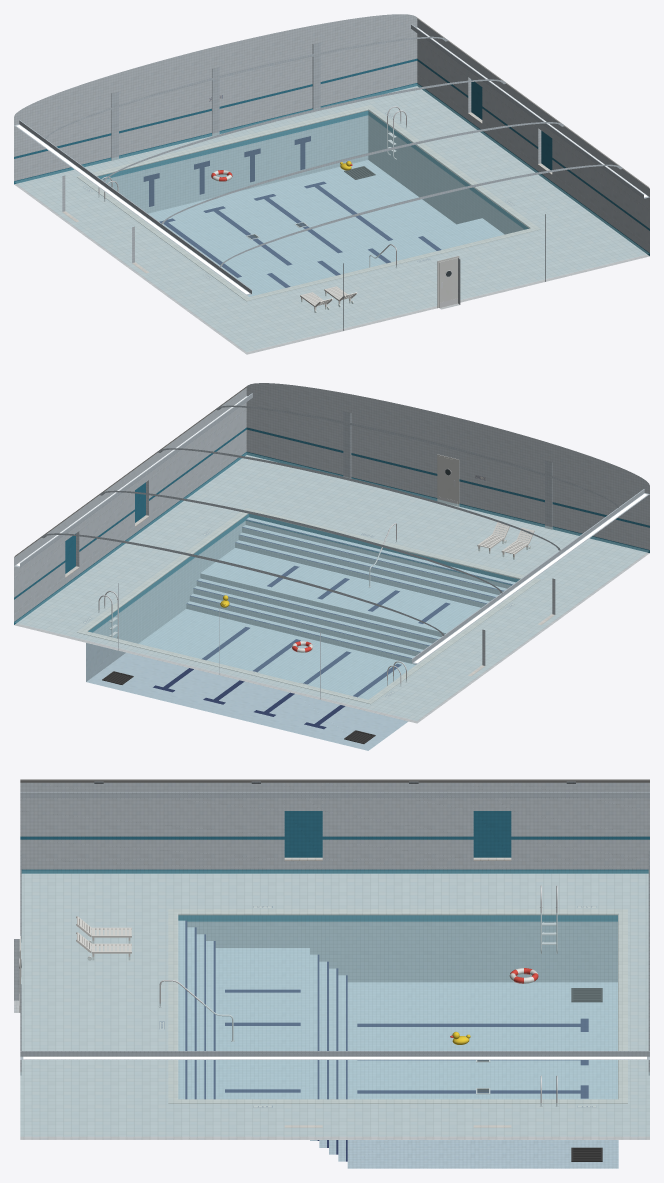
Rendered from sub_pool_11.glb.
The picture shows the model from 3 angles, top to bottom: view 1: azimuth 30°, elevation 25°; view 2: azimuth 150°, elevation 25°; view 3: azimuth 270°, elevation 25°; orthographic projection. The views are drawn at different scales.
Visible parts, largest first — view 1: Pool_Water, Tile_Wall, Tile_Deck, Tile_Pool, Tile_Trim, Tile_Accent, Tile_Lip, Tile_Lane, Lamp_Emit, DoorLeaf_atrium, Plastic_White, Chrome; view 2: Pool_Water, Tile_Pool, Tile_Wall, Tile_Deck, Tile_Trim, Tile_Accent, Tile_Lip, Tile_Lane, Lamp_Emit, DoorLeaf_atrium, Plastic_White, Chrome (+1 smaller); view 3: Pool_Water, Tile_Pool, Tile_Deck, Tile_Wall, Tile_Accent, Tile_Trim, Tile_Lip, Tile_Lane, Lamp_Emit, Ceiling_Paint, Plastic_White, Grate_Iron (+1 smaller).
Boxes of the visible parts, x1,y1,x2,y2 form: Pool_Water: (15, 84, 648, 351); Tile_Wall: (14, 14, 649, 304); Tile_Deck: (14, 86, 649, 354); Tile_Pool: (102, 115, 524, 296); Tile_Trim: (14, 24, 649, 330); Tile_Accent: (14, 58, 649, 255); Tile_Lip: (62, 105, 552, 301); Tile_Lane: (143, 136, 441, 287); Lamp_Emit: (16, 28, 647, 294); DoorLeaf_atrium: (439, 257, 457, 307); Plastic_White: (300, 286, 357, 312); Chrome: (98, 106, 407, 268); Pool_Water: (14, 452, 648, 720); Tile_Pool: (86, 517, 515, 750); Tile_Wall: (14, 383, 649, 665); Tile_Deck: (14, 455, 649, 723); Tile_Trim: (14, 393, 649, 699); Tile_Accent: (14, 427, 649, 632); Tile_Lip: (65, 507, 554, 704); Tile_Lane: (153, 519, 512, 729); Lamp_Emit: (16, 396, 647, 663); DoorLeaf_atrium: (438, 456, 457, 506); Plastic_White: (477, 522, 534, 559); Chrome: (98, 523, 407, 686); Pool_Water: (20, 870, 649, 1136); Tile_Pool: (178, 920, 618, 1168); Tile_Deck: (14, 873, 649, 1139); Tile_Wall: (14, 782, 649, 1000); Tile_Accent: (20, 811, 649, 921); Tile_Trim: (20, 781, 649, 1075); Tile_Lip: (168, 857, 627, 1127); Tile_Lane: (185, 920, 588, 1161); Lamp_Emit: (23, 1056, 646, 1059); Ceiling_Paint: (20, 779, 649, 782); Plastic_White: (76, 916, 131, 960); Grate_Iron: (477, 988, 602, 1161).
Bounding box in the file's own units: 20.3 × 6.6 × 20.2.
19 materials, 10 textured.
